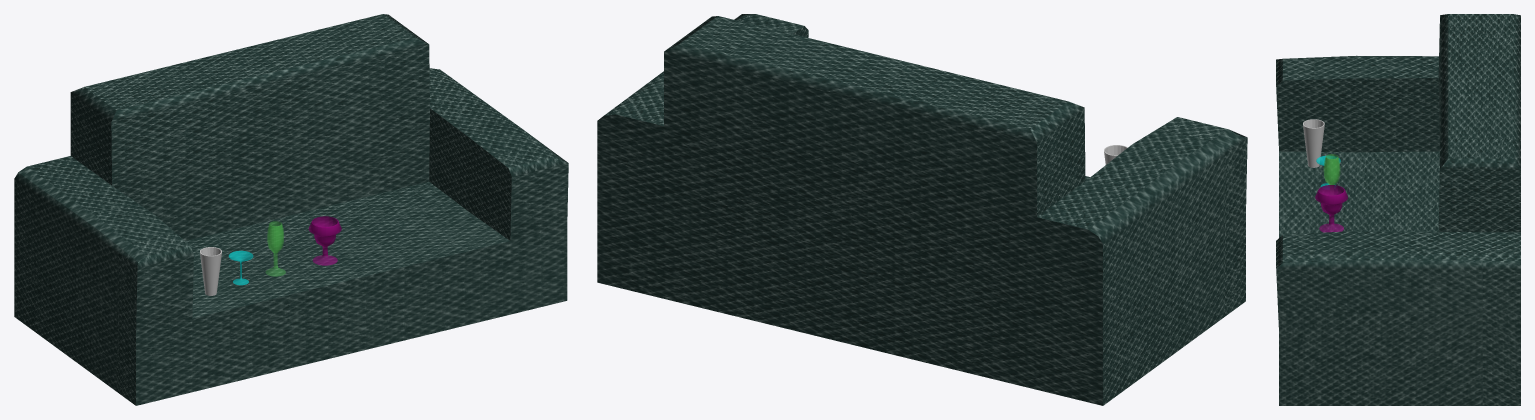
Rendered from SillonYProps.fbx.
3 views of the same model, side by side, from view 1: azimuth 30°, elevation 25°; view 2: azimuth 150°, elevation 25°; view 3: azimuth 270°, elevation 25° (orthographic). The views are drawn at different scales.
Parts seen in each view (by area): view 1: Sofa, CopaAlta1, VasoFlair, CopaAlta; view 2: Sofa; view 3: Sofa, CopaAlta1, VasoFlair, CopaAlta.
Boxes of the visible parts, box(x1,y1,x2,y2) form: Sofa: box(14, 14, 568, 405); CopaAlta1: box(308, 216, 341, 265); VasoFlair: box(200, 247, 221, 295); CopaAlta: box(265, 221, 285, 276); Sofa: box(597, 14, 1247, 405); Sofa: box(1276, 14, 1520, 405); CopaAlta1: box(1315, 185, 1347, 232); VasoFlair: box(1303, 119, 1324, 167); CopaAlta: box(1323, 154, 1340, 184).
Bounding box in the file's own units: 20.79 × 9.99 × 10.29.
